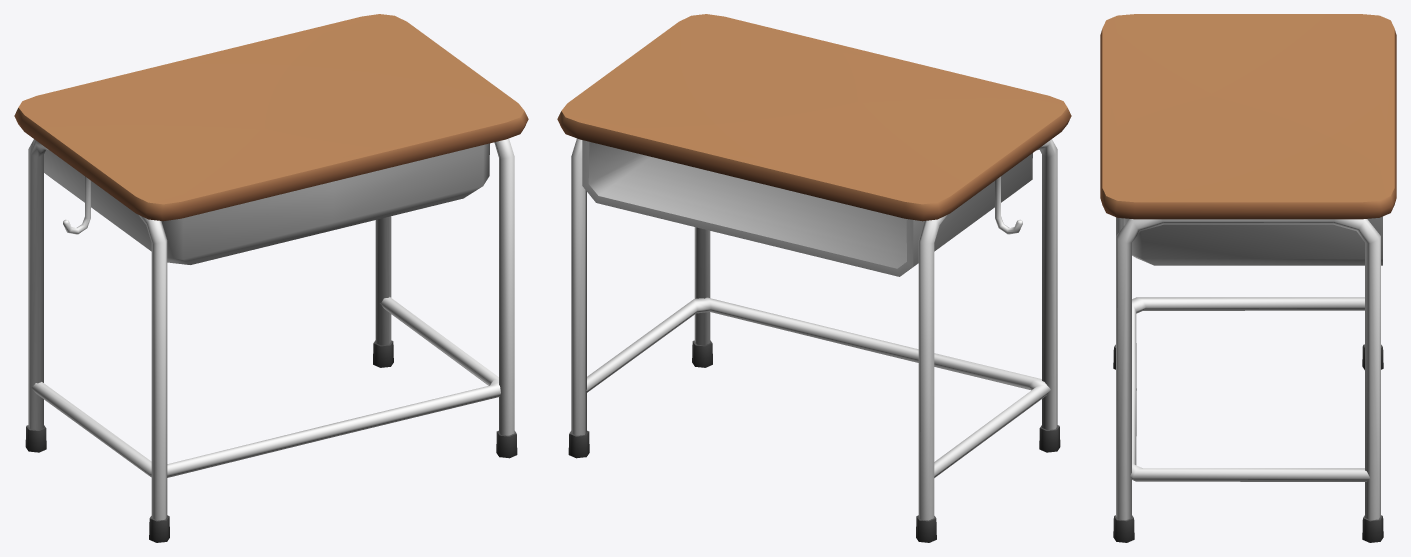
Rendered from CR_Desk_002.FBX.
3 renders of one model, left to right at view 1: azimuth 30°, elevation 25°; view 2: azimuth 150°, elevation 25°; view 3: azimuth 270°, elevation 25°, orthographic.
Parts seen in each view (by area): view 1: CR_Desk_002; view 2: CR_Desk_002; view 3: CR_Desk_002.
Boxes of the visible parts, x1,y1,x2,y2 form: CR_Desk_002: (14,14,528,542); CR_Desk_002: (557,14,1071,542); CR_Desk_002: (1100,14,1396,542).
Bounding box in the file's own units: 27.02 × 21.91 × 17.06.
